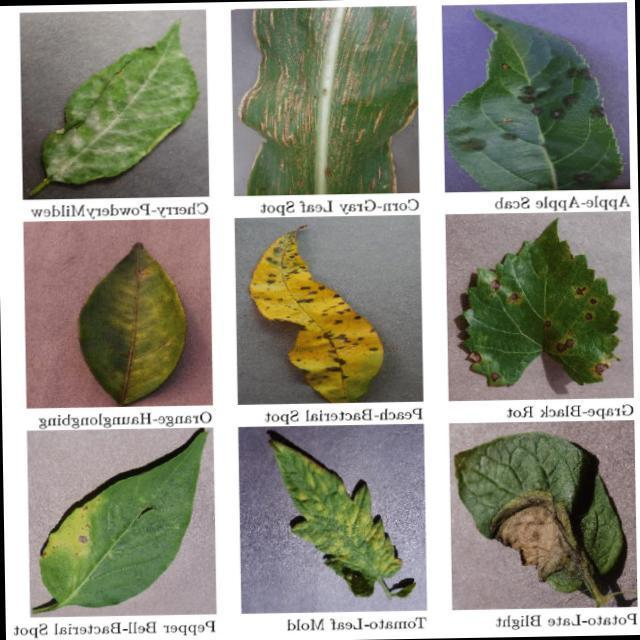Mosaic Virus: (278, 436, 398, 586)
